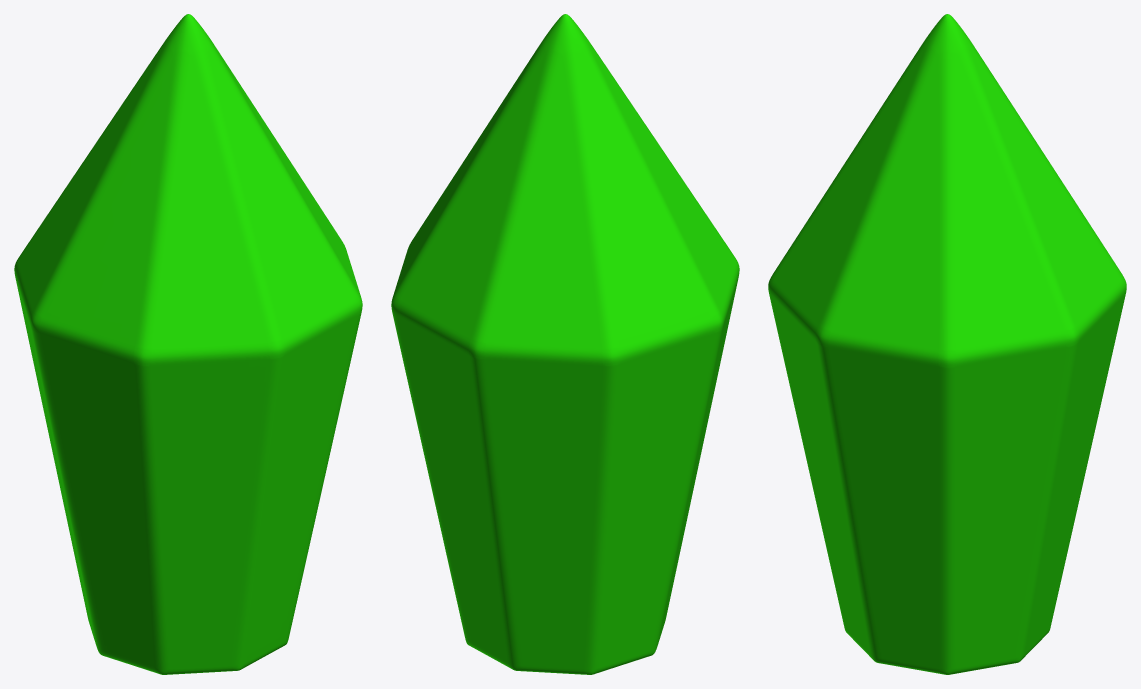
File: uploads_files_2467447_crystalgreen.fbx
3 views of the same model, side by side, from view 1: azimuth 30°, elevation 25°; view 2: azimuth 150°, elevation 25°; view 3: azimuth 270°, elevation 25° (orthographic).
Visible parts, largest first — view 1: outside; view 2: outside; view 3: outside.
Boxes of the visible parts, bbox=[...] form: outside: bbox=[14, 14, 362, 674]; outside: bbox=[391, 14, 739, 674]; outside: bbox=[768, 14, 1126, 674].
Size of the model in its own units: 348 by 664 by 348.
